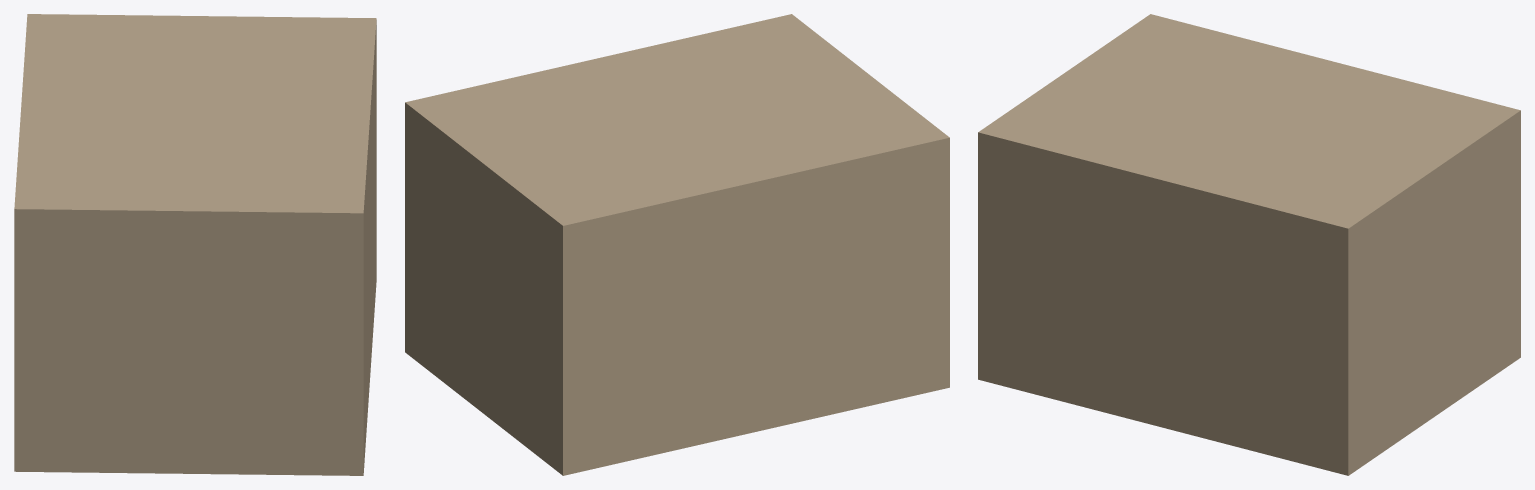
Rendered from bld_101289732.dae.
The picture shows the model from 3 angles, left to right: view 1: azimuth 30°, elevation 25°; view 2: azimuth 150°, elevation 25°; view 3: azimuth 270°, elevation 25°; orthographic projection. The views are drawn at different scales.
Parts seen in each view (by area): view 1: bld_101289732; view 2: bld_101289732; view 3: bld_101289732.
Part boxes in pixels (x1,y1,x2,y2): bld_101289732: (14,14,376,475); bld_101289732: (405,14,949,475); bld_101289732: (978,14,1520,475).
Size of the model in its own units: 14.9 by 15.91 by 8.
